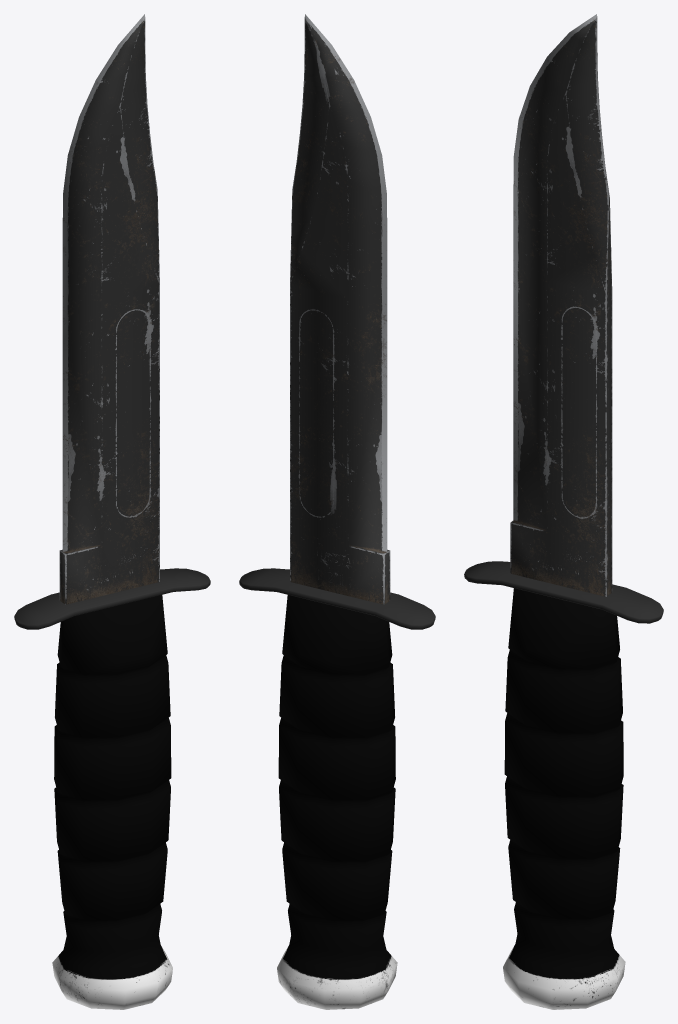
File: knife.fbx
3 renders of one model, left to right at view 1: azimuth 30°, elevation 25°; view 2: azimuth 150°, elevation 25°; view 3: azimuth 330°, elevation 25°, orthographic.
Visible parts, largest first — view 1: blade_low, handle_low, handguard_low; view 2: blade_low, handle_low, handguard_low; view 3: blade_low, handle_low, handguard_low.
Boxes of the visible parts, x1,y1,x2,y2 form: blade_low: [59, 14, 159, 604]; handle_low: [52, 595, 172, 1009]; handguard_low: [14, 568, 210, 629]; blade_low: [290, 14, 390, 604]; handle_low: [277, 595, 397, 1009]; handguard_low: [239, 568, 435, 629]; blade_low: [510, 14, 612, 596]; handle_low: [503, 588, 625, 1009]; handguard_low: [464, 561, 663, 623].
Size of the model in its own units: 1.88 by 9.15 by 0.9912.
3 materials, 2 textured.
